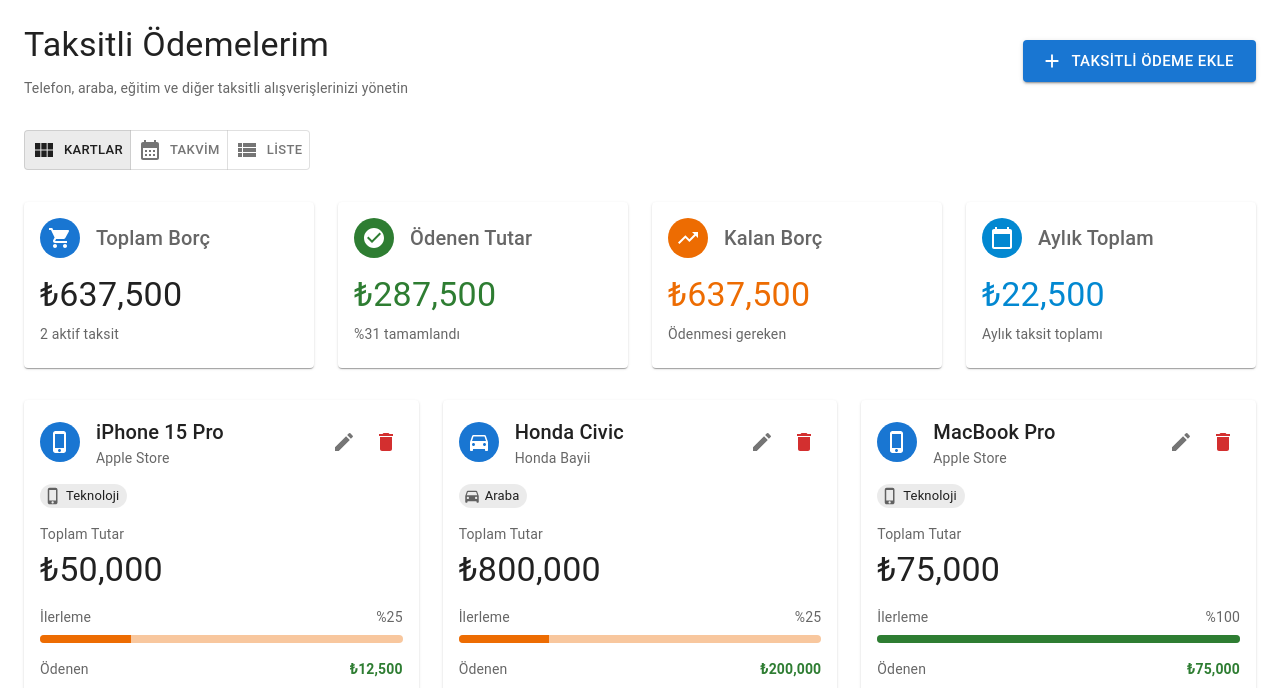
Scenario: InstallmentPaymentsPage Integration Tests › Performance and Loading States › handles concurrent view switches gracefully
Check: the heading "iPhone 15 Pro" is shown, box [96, 420, 224, 444]
Note: Rapidly switch between views
Click the button "Takvim" at (179, 150), box [130, 130, 228, 170]
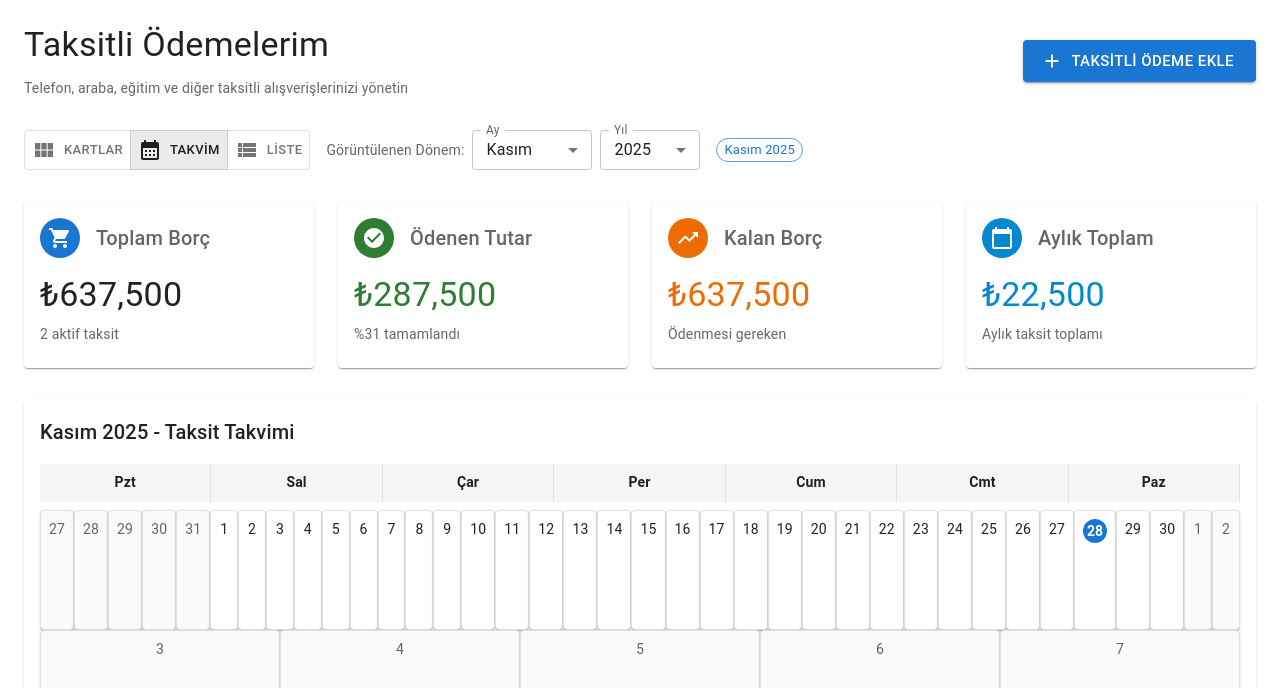
Click the button "Liste" at (269, 150), box [227, 130, 310, 170]
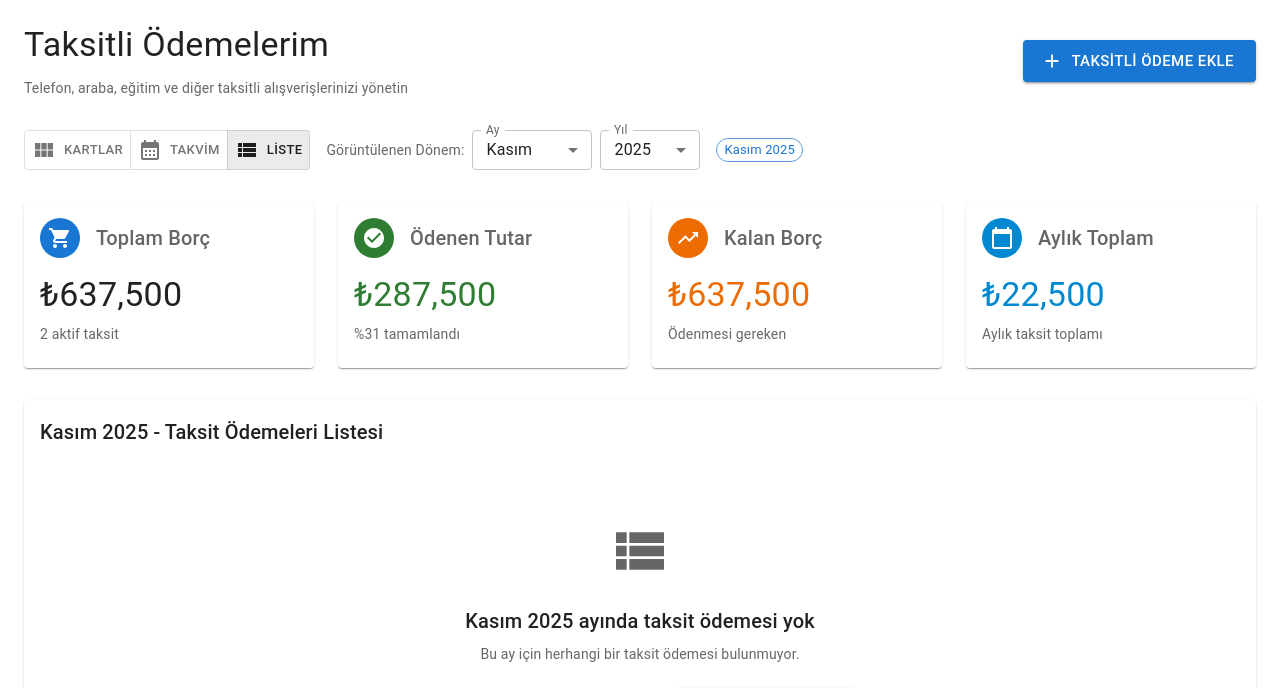
Click the button "Kartlar" at (78, 150), box [24, 130, 131, 170]
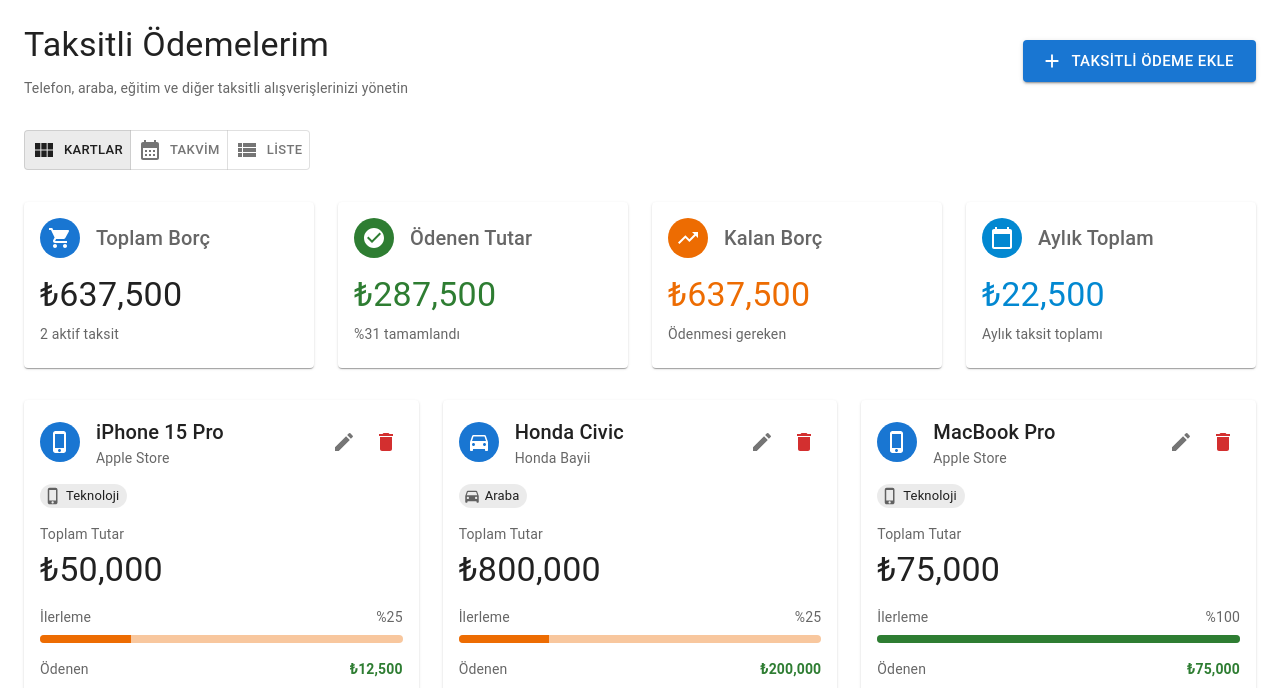
Click the button "Takvim" at (179, 150), box [130, 130, 228, 170]
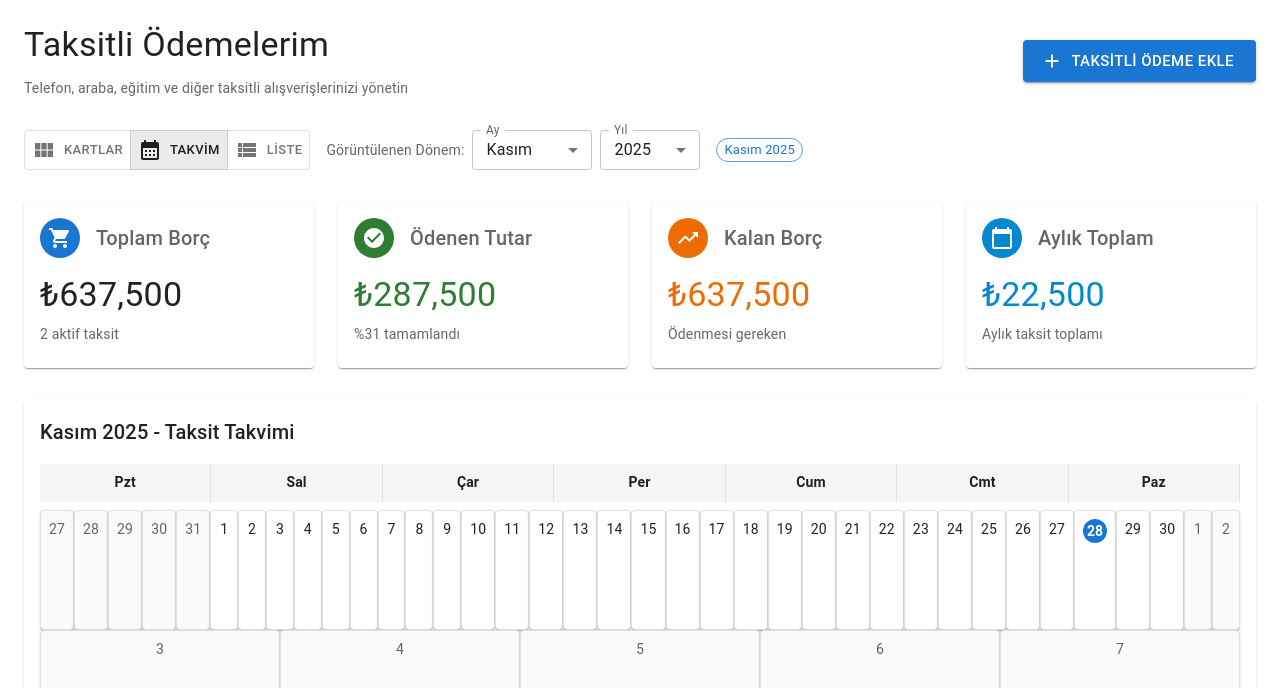
Check: the heading "Kasım 2025 - Taksit Takvimi" is shown, box [40, 416, 294, 448]
